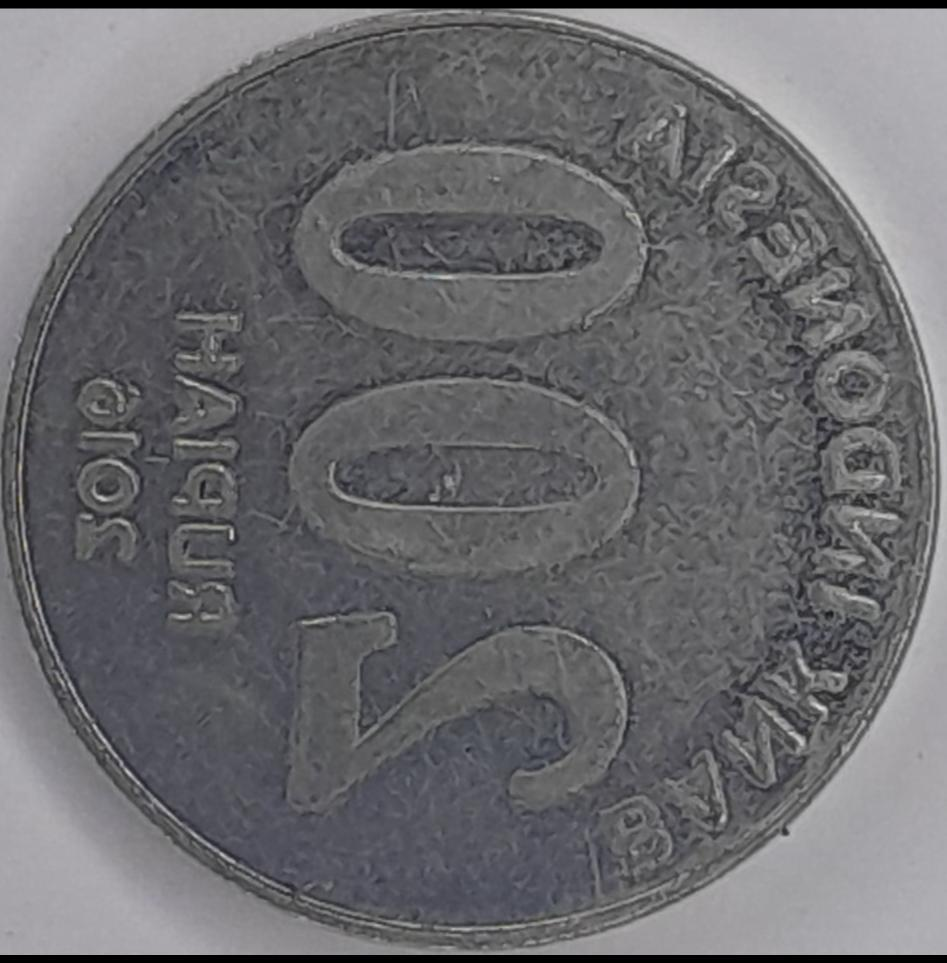coin_200_e2016: (0, 17, 947, 963)
